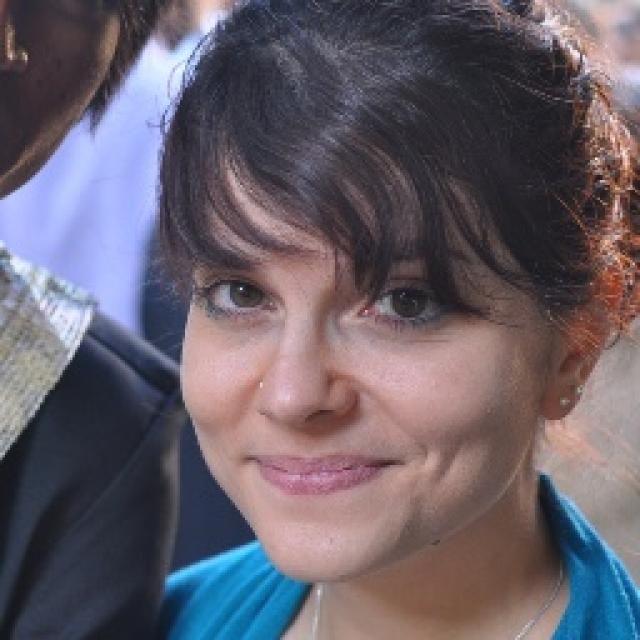earlobe: (543, 387, 581, 423)
eye: (365, 283, 455, 323), (199, 274, 275, 318)
nose: (253, 413, 350, 442)
wholeear: (547, 252, 621, 429)
